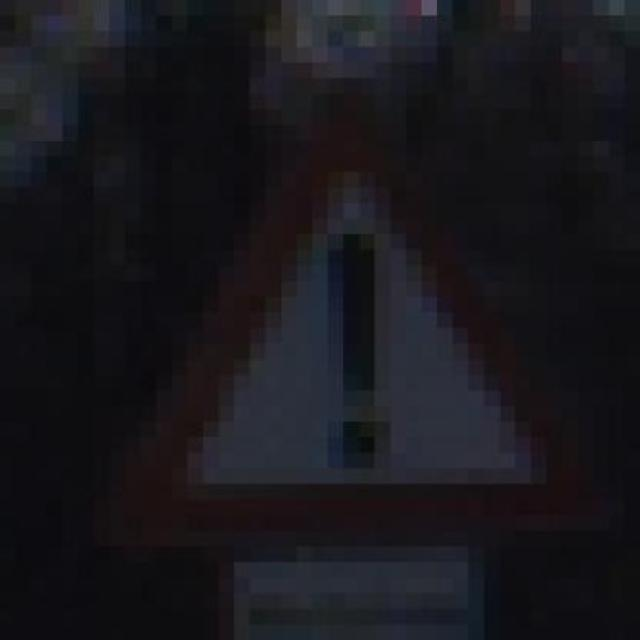Attention Please-: (72, 94, 603, 546)
